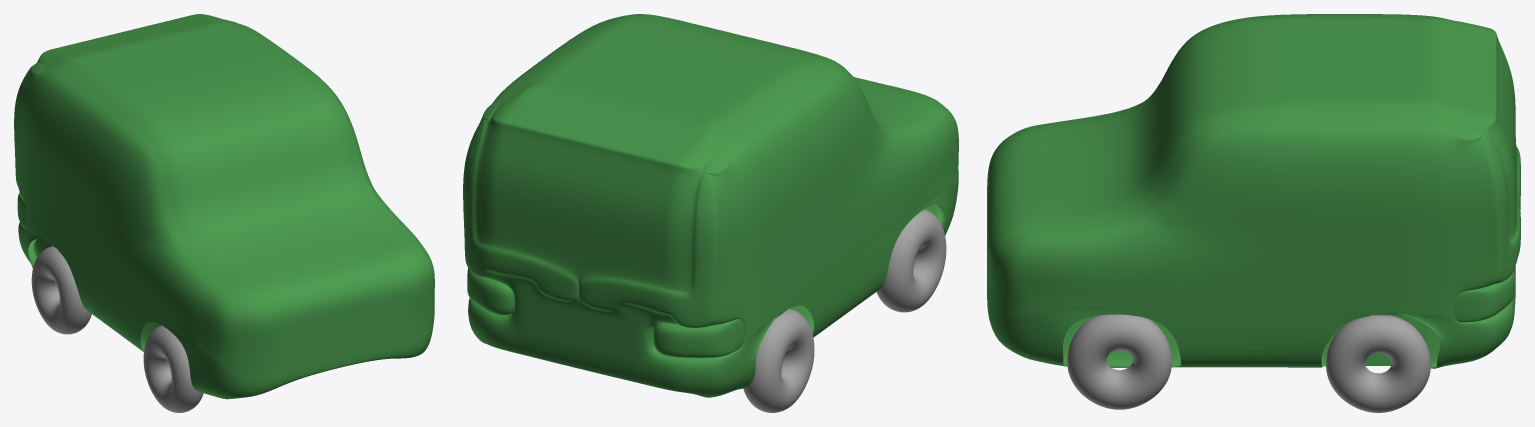
File: Car.fbx
The picture shows the model from 3 angles, left to right: view 1: azimuth 30°, elevation 25°; view 2: azimuth 150°, elevation 25°; view 3: azimuth 270°, elevation 25°; orthographic projection. The views are drawn at different scales.
Parts seen in each view (by area): view 1: Body26, タイヤ, タイヤ2; view 2: Body26, タイヤ, タイヤ2; view 3: Body26, タイヤ１, タイヤ3.
Part boxes in pixels (x1,y1,x2,y2): Body26: (14,14,434,399); タイヤ: (31,246,91,334); タイヤ2: (143,325,203,412); Body26: (463,14,958,397); タイヤ: (743,309,814,412); タイヤ2: (876,209,946,312); Body26: (987,14,1520,368); タイヤ１: (1326,315,1430,412); タイヤ3: (1067,314,1171,409).
Bounding box in the file's own units: 19.04 × 18.08 × 30.29.
